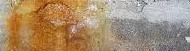Corrosion: (1, 1, 121, 51)
